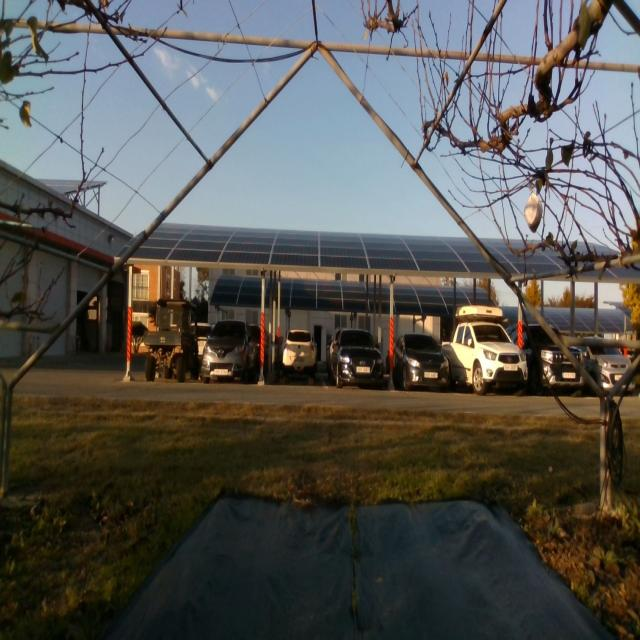pearbags: (524, 192, 543, 232)
